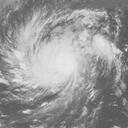cyclone: (9, 9, 96, 109)
